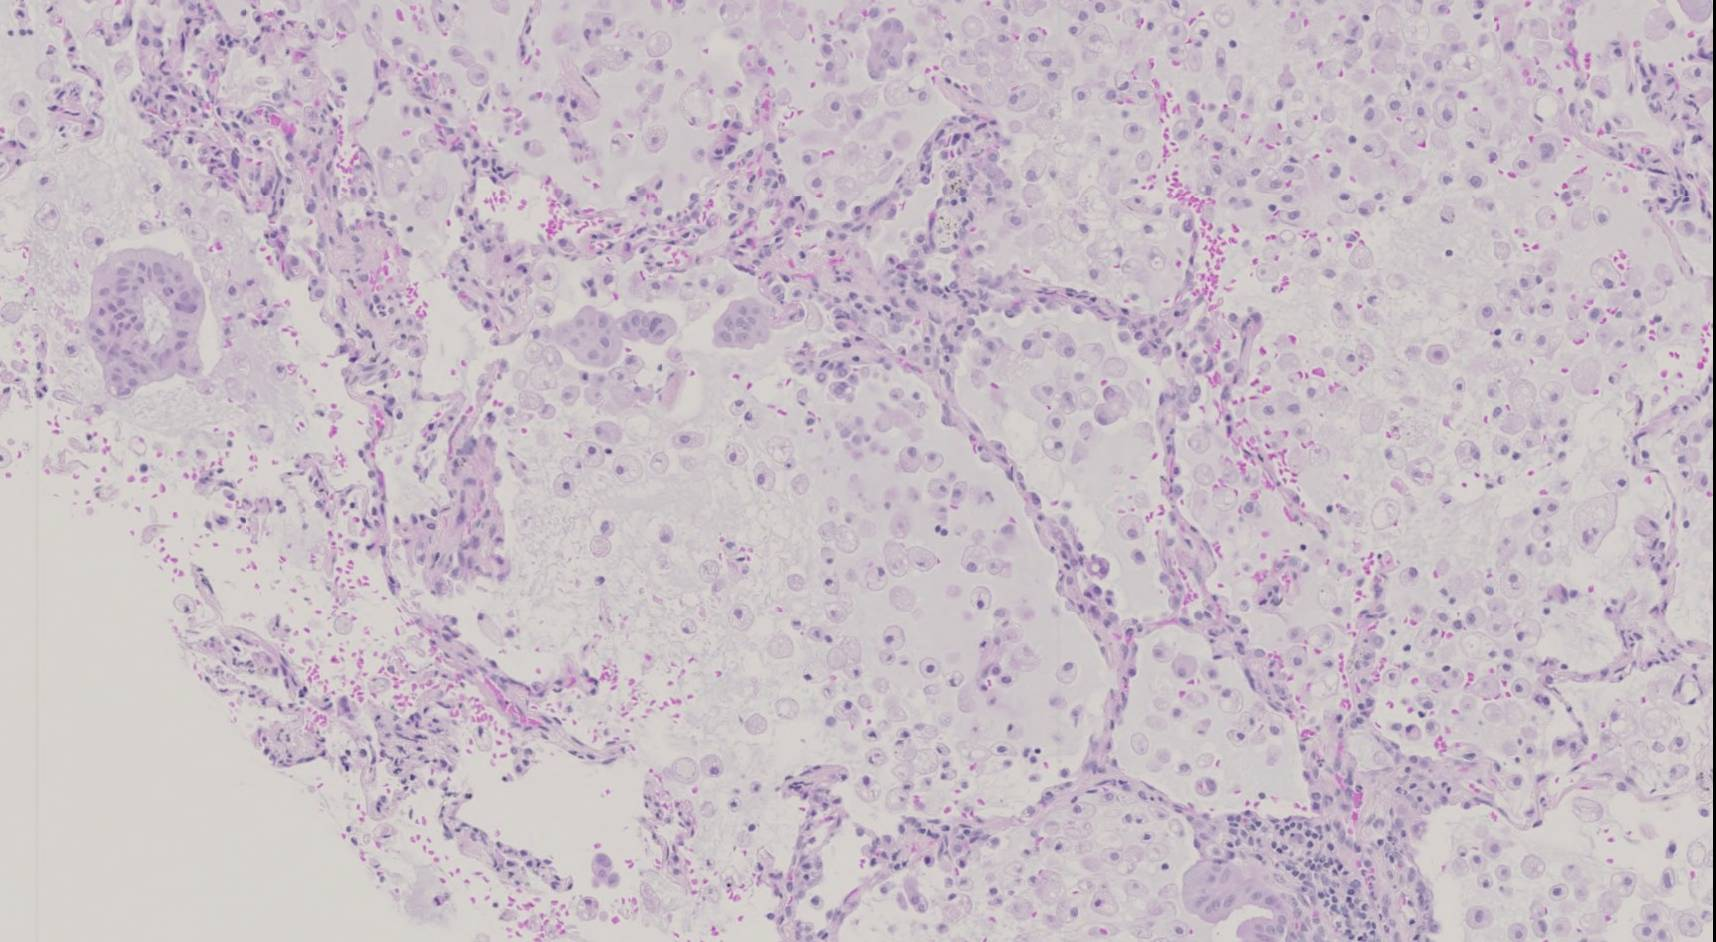stas: (87, 247, 206, 401), (549, 306, 678, 365), (864, 16, 918, 84), (713, 293, 777, 350)
